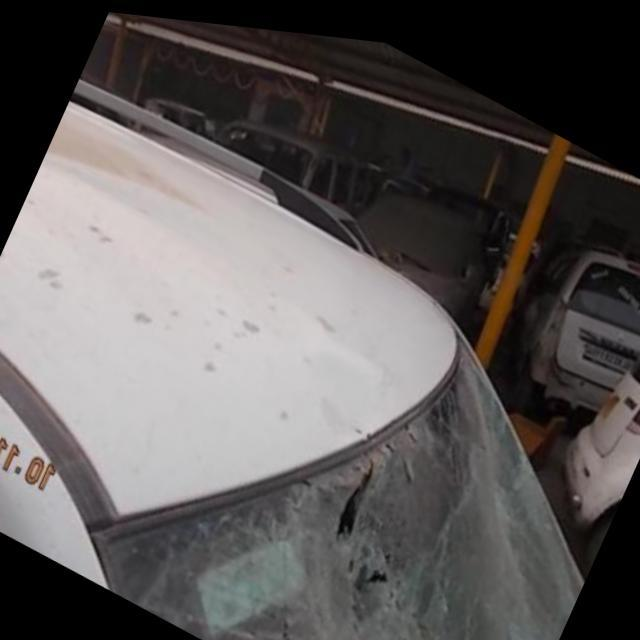dent: (312, 349, 400, 448)
glass shatter: (89, 322, 584, 640)
